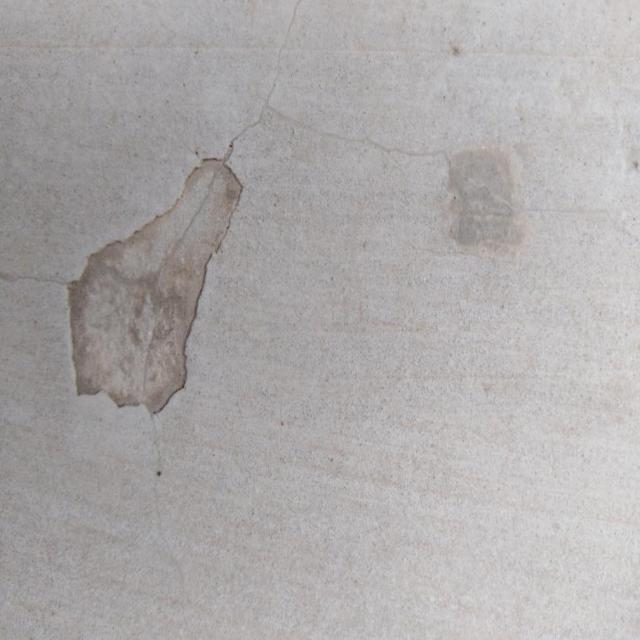concrete spalling: (63, 156, 244, 420)
horizontal crack: (0, 268, 66, 288)
multi-branched crack: (224, 0, 638, 246)
vertical crack: (150, 412, 188, 639)
